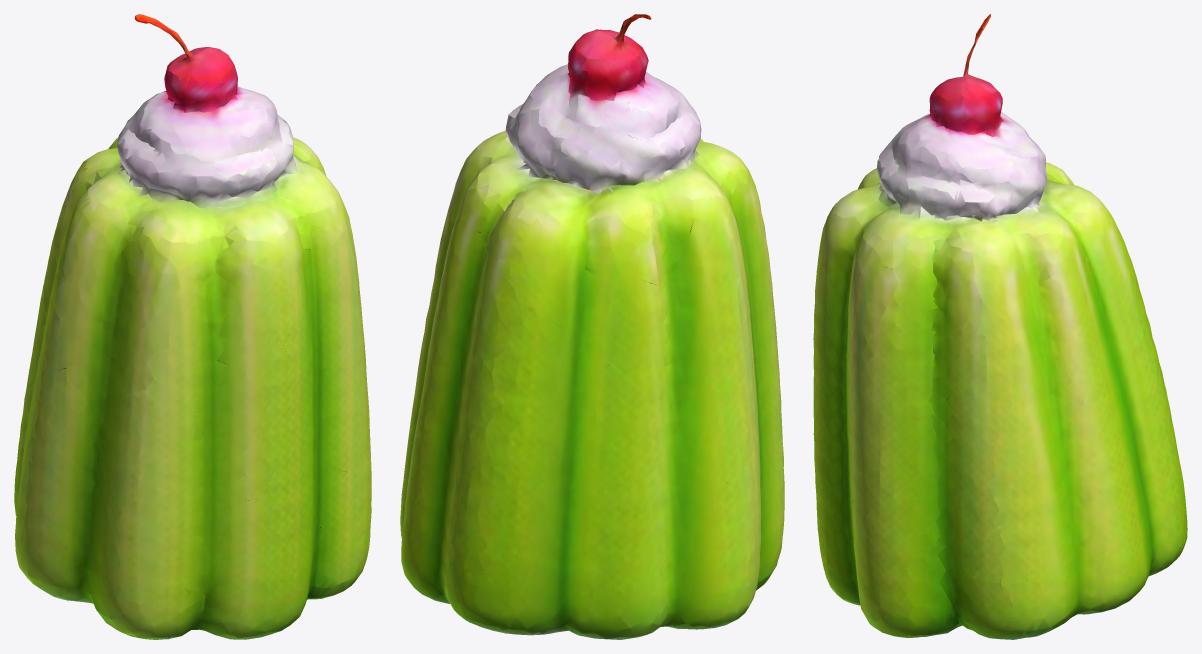
Rendered from jello_mold.glb.
The picture shows the model from 3 angles, left to right: view 1: azimuth 30°, elevation 25°; view 2: azimuth 150°, elevation 25°; view 3: azimuth 270°, elevation 25°; orthographic projection. The views are drawn at different scales.
Parts seen in each view (by area): view 1: world; view 2: world; view 3: world.
Boxes of the visible parts, <box> form: world: <box>14,14,371,639</box>; world: <box>400,14,784,639</box>; world: <box>813,14,1187,639</box>.
Size of the model in its own units: 0.5883 by 1.01 by 0.6165.
1 material, 1 textured.
